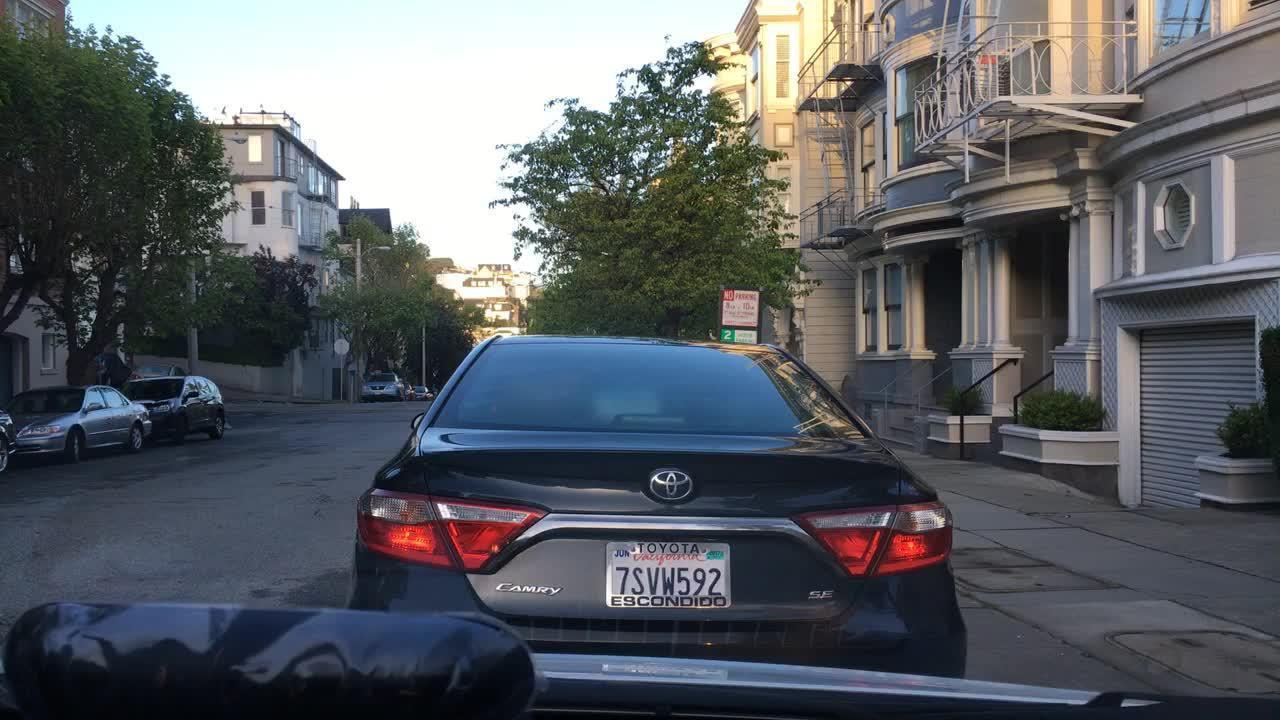Toyota: (639, 462, 702, 509)
